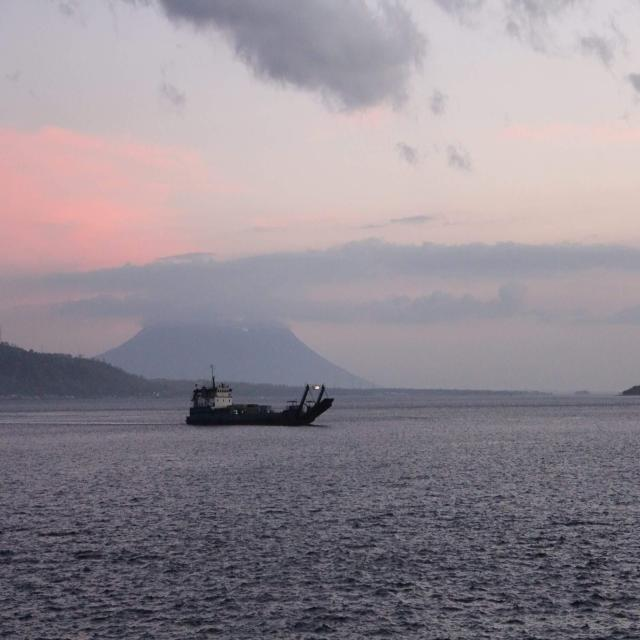cargoship: (186, 363, 336, 431)
